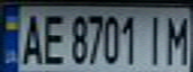0: (103, 11, 121, 65)
1: (118, 11, 142, 66)
7: (84, 11, 106, 65)
8: (66, 10, 90, 65)
A: (15, 9, 45, 66)
E: (39, 10, 69, 66)
I: (142, 11, 169, 65)
M: (160, 11, 193, 66)
